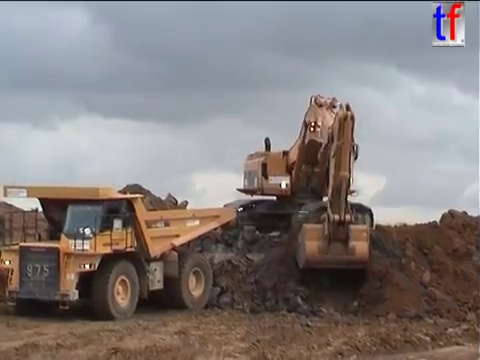excavator: (220, 92, 378, 273)
truck: (1, 183, 239, 322)
